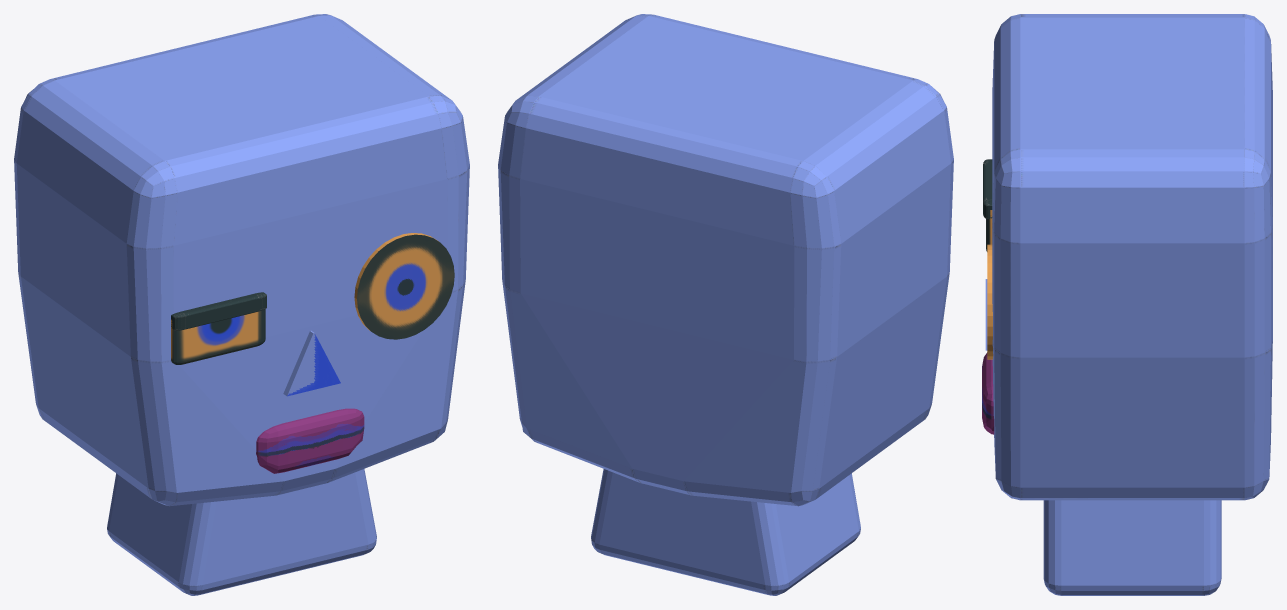
File: mother_head.glb
3 renders of one model, left to right at view 1: azimuth 30°, elevation 25°; view 2: azimuth 150°, elevation 25°; view 3: azimuth 270°, elevation 25°, orthographic. The views are drawn at different scales.
Parts seen in each view (by area): view 1: Roundcube, Roundcube.001, Cylinder, Roundcube.005, Roundcube.002, Cube, Roundcube.003; view 2: Roundcube, Roundcube.001; view 3: Roundcube, Roundcube.001, Roundcube.005, Cylinder, Roundcube.003.
Part boxes in pixels (x1,y1,x2,y2): Roundcube: [14, 14, 469, 506]; Roundcube.001: [107, 469, 376, 595]; Cylinder: [354, 233, 454, 339]; Roundcube.005: [256, 408, 364, 473]; Roundcube.002: [171, 309, 265, 364]; Cube: [283, 330, 340, 396]; Roundcube.003: [171, 292, 266, 330]; Roundcube: [498, 14, 953, 506]; Roundcube.001: [591, 469, 860, 595]; Roundcube: [992, 14, 1272, 500]; Roundcube.001: [1043, 500, 1221, 595]; Roundcube.005: [982, 352, 994, 434]; Cylinder: [987, 244, 993, 359]; Roundcube.003: [983, 159, 992, 218].
Bounding box in the file's own units: 4.51 × 5.82 × 3.26.
2 materials, 2 textured.
